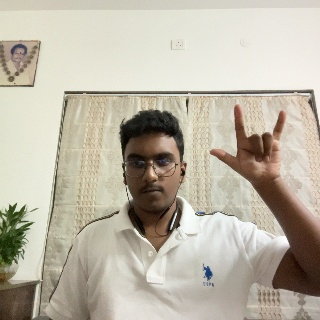Face: (125, 117, 182, 217)
I Love You: (211, 104, 290, 204)
